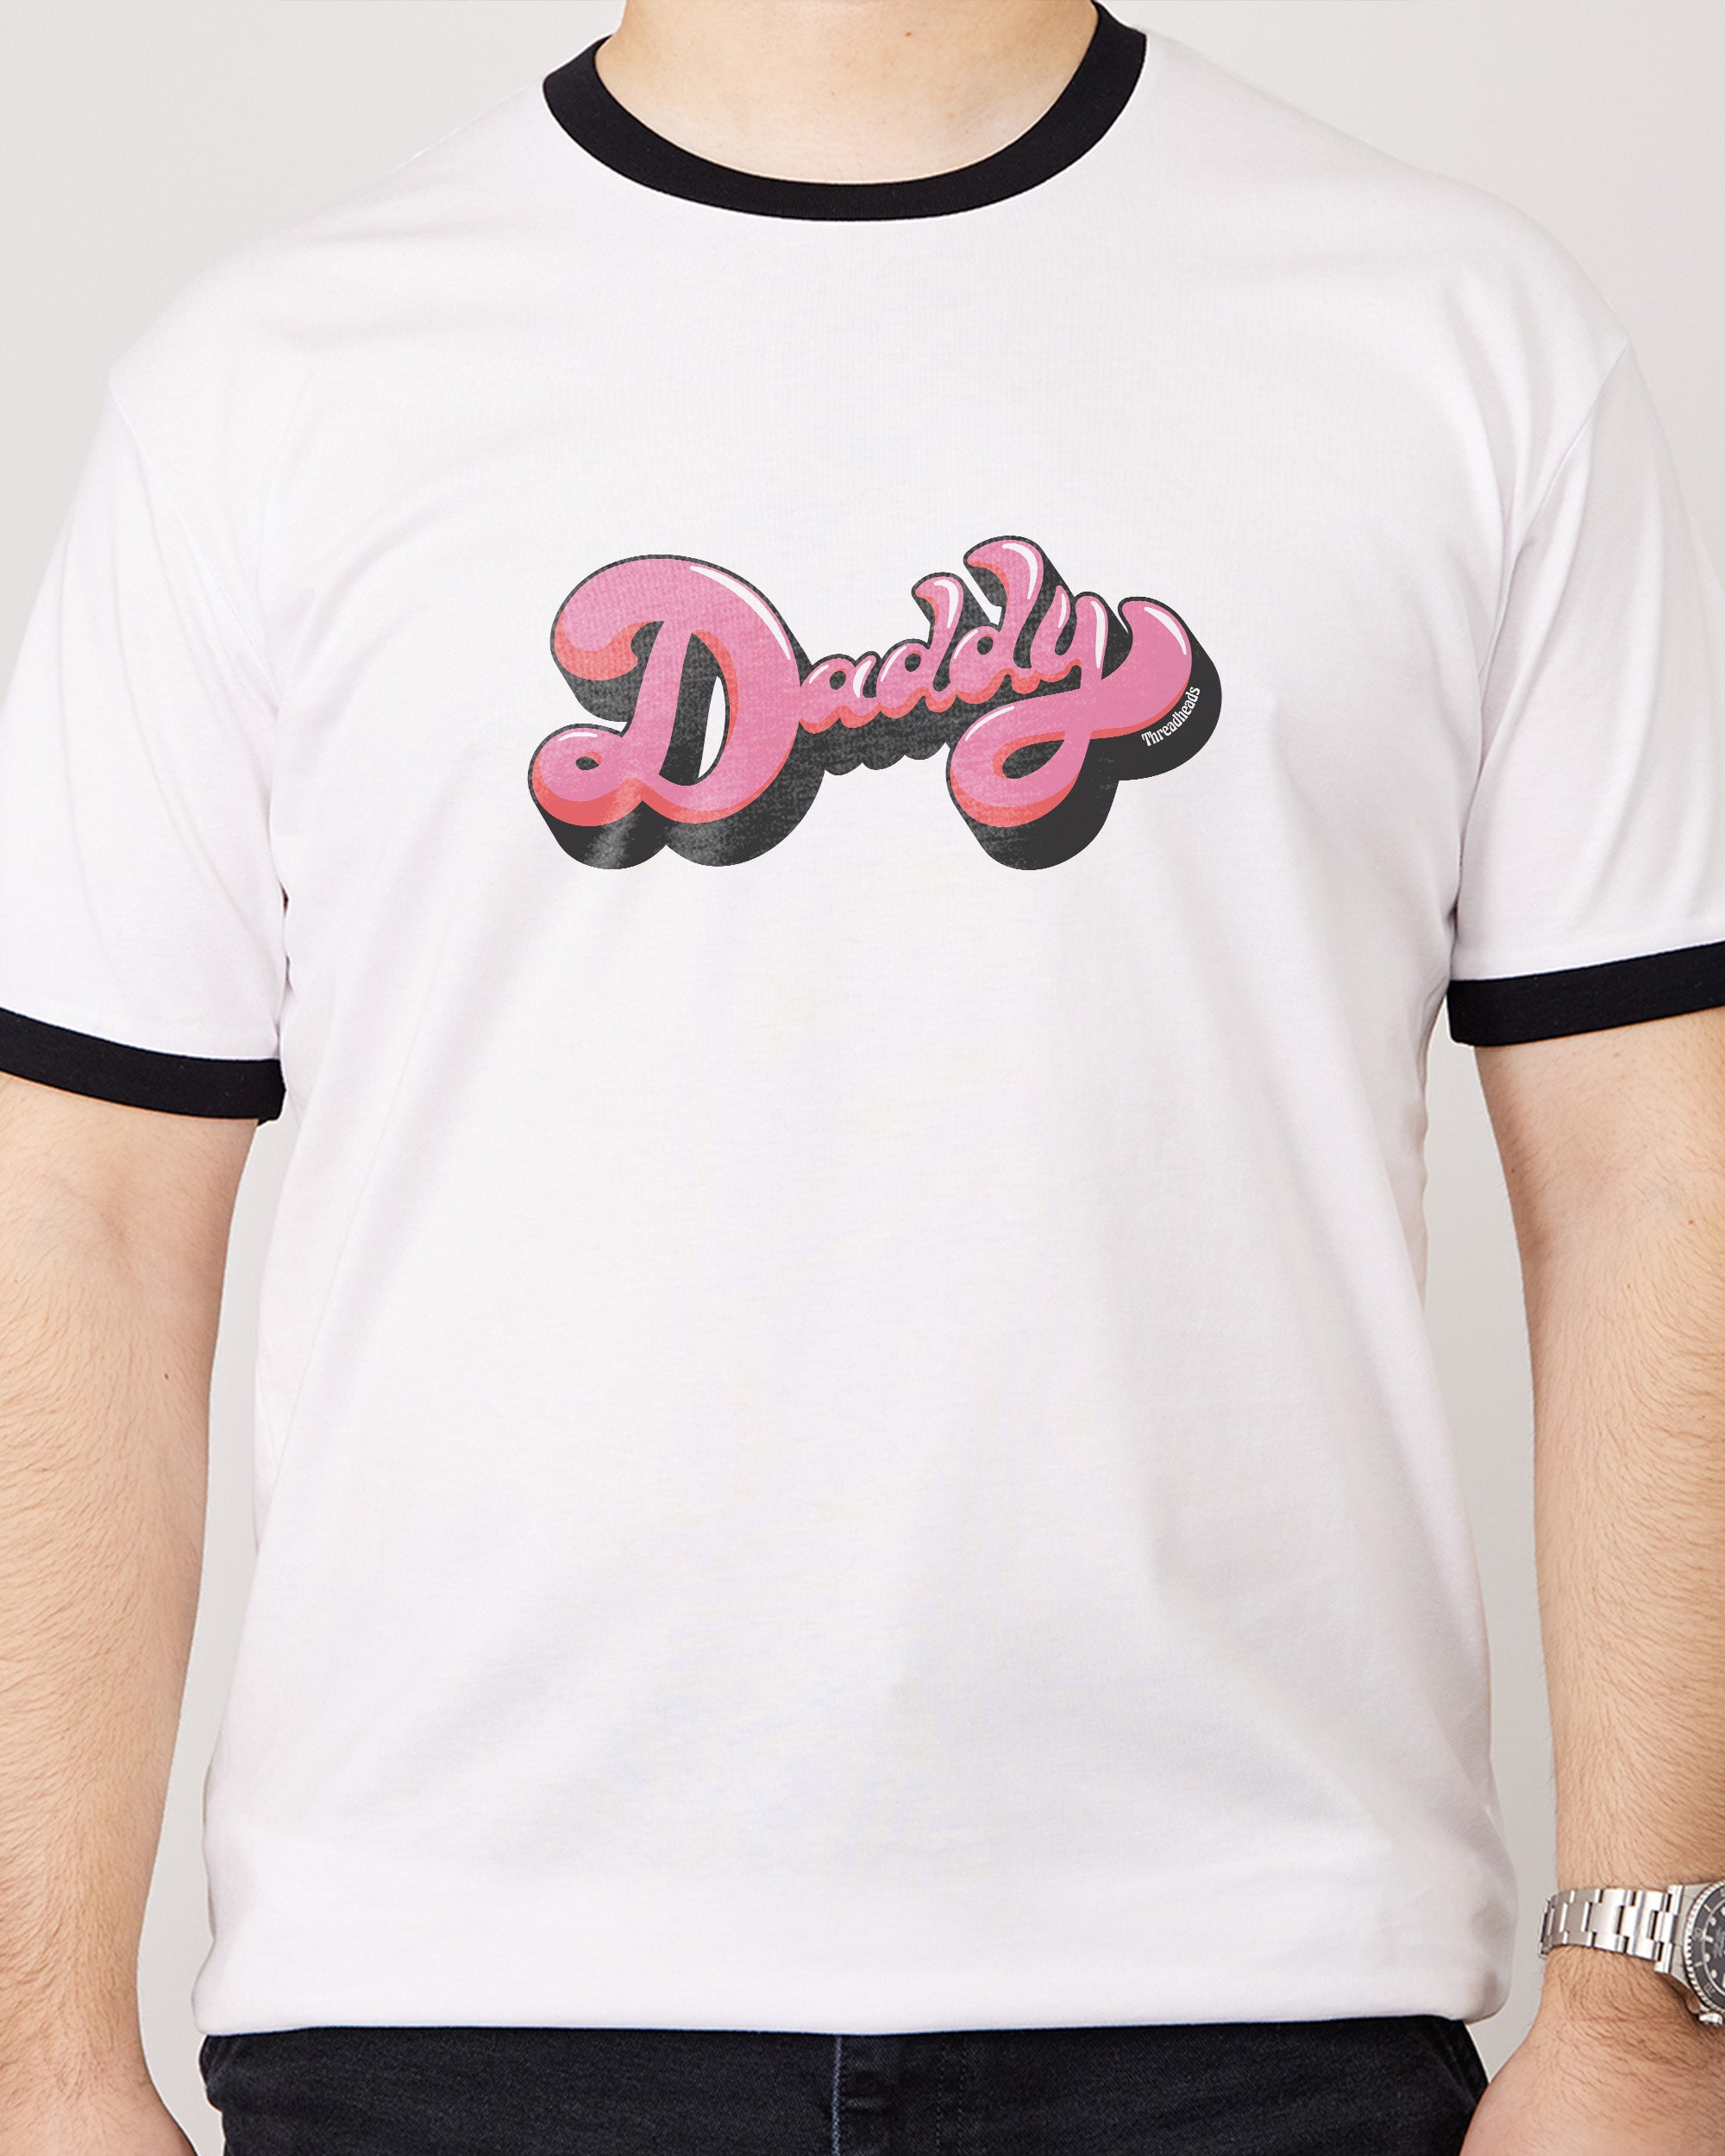design: (517, 528, 1230, 876)
